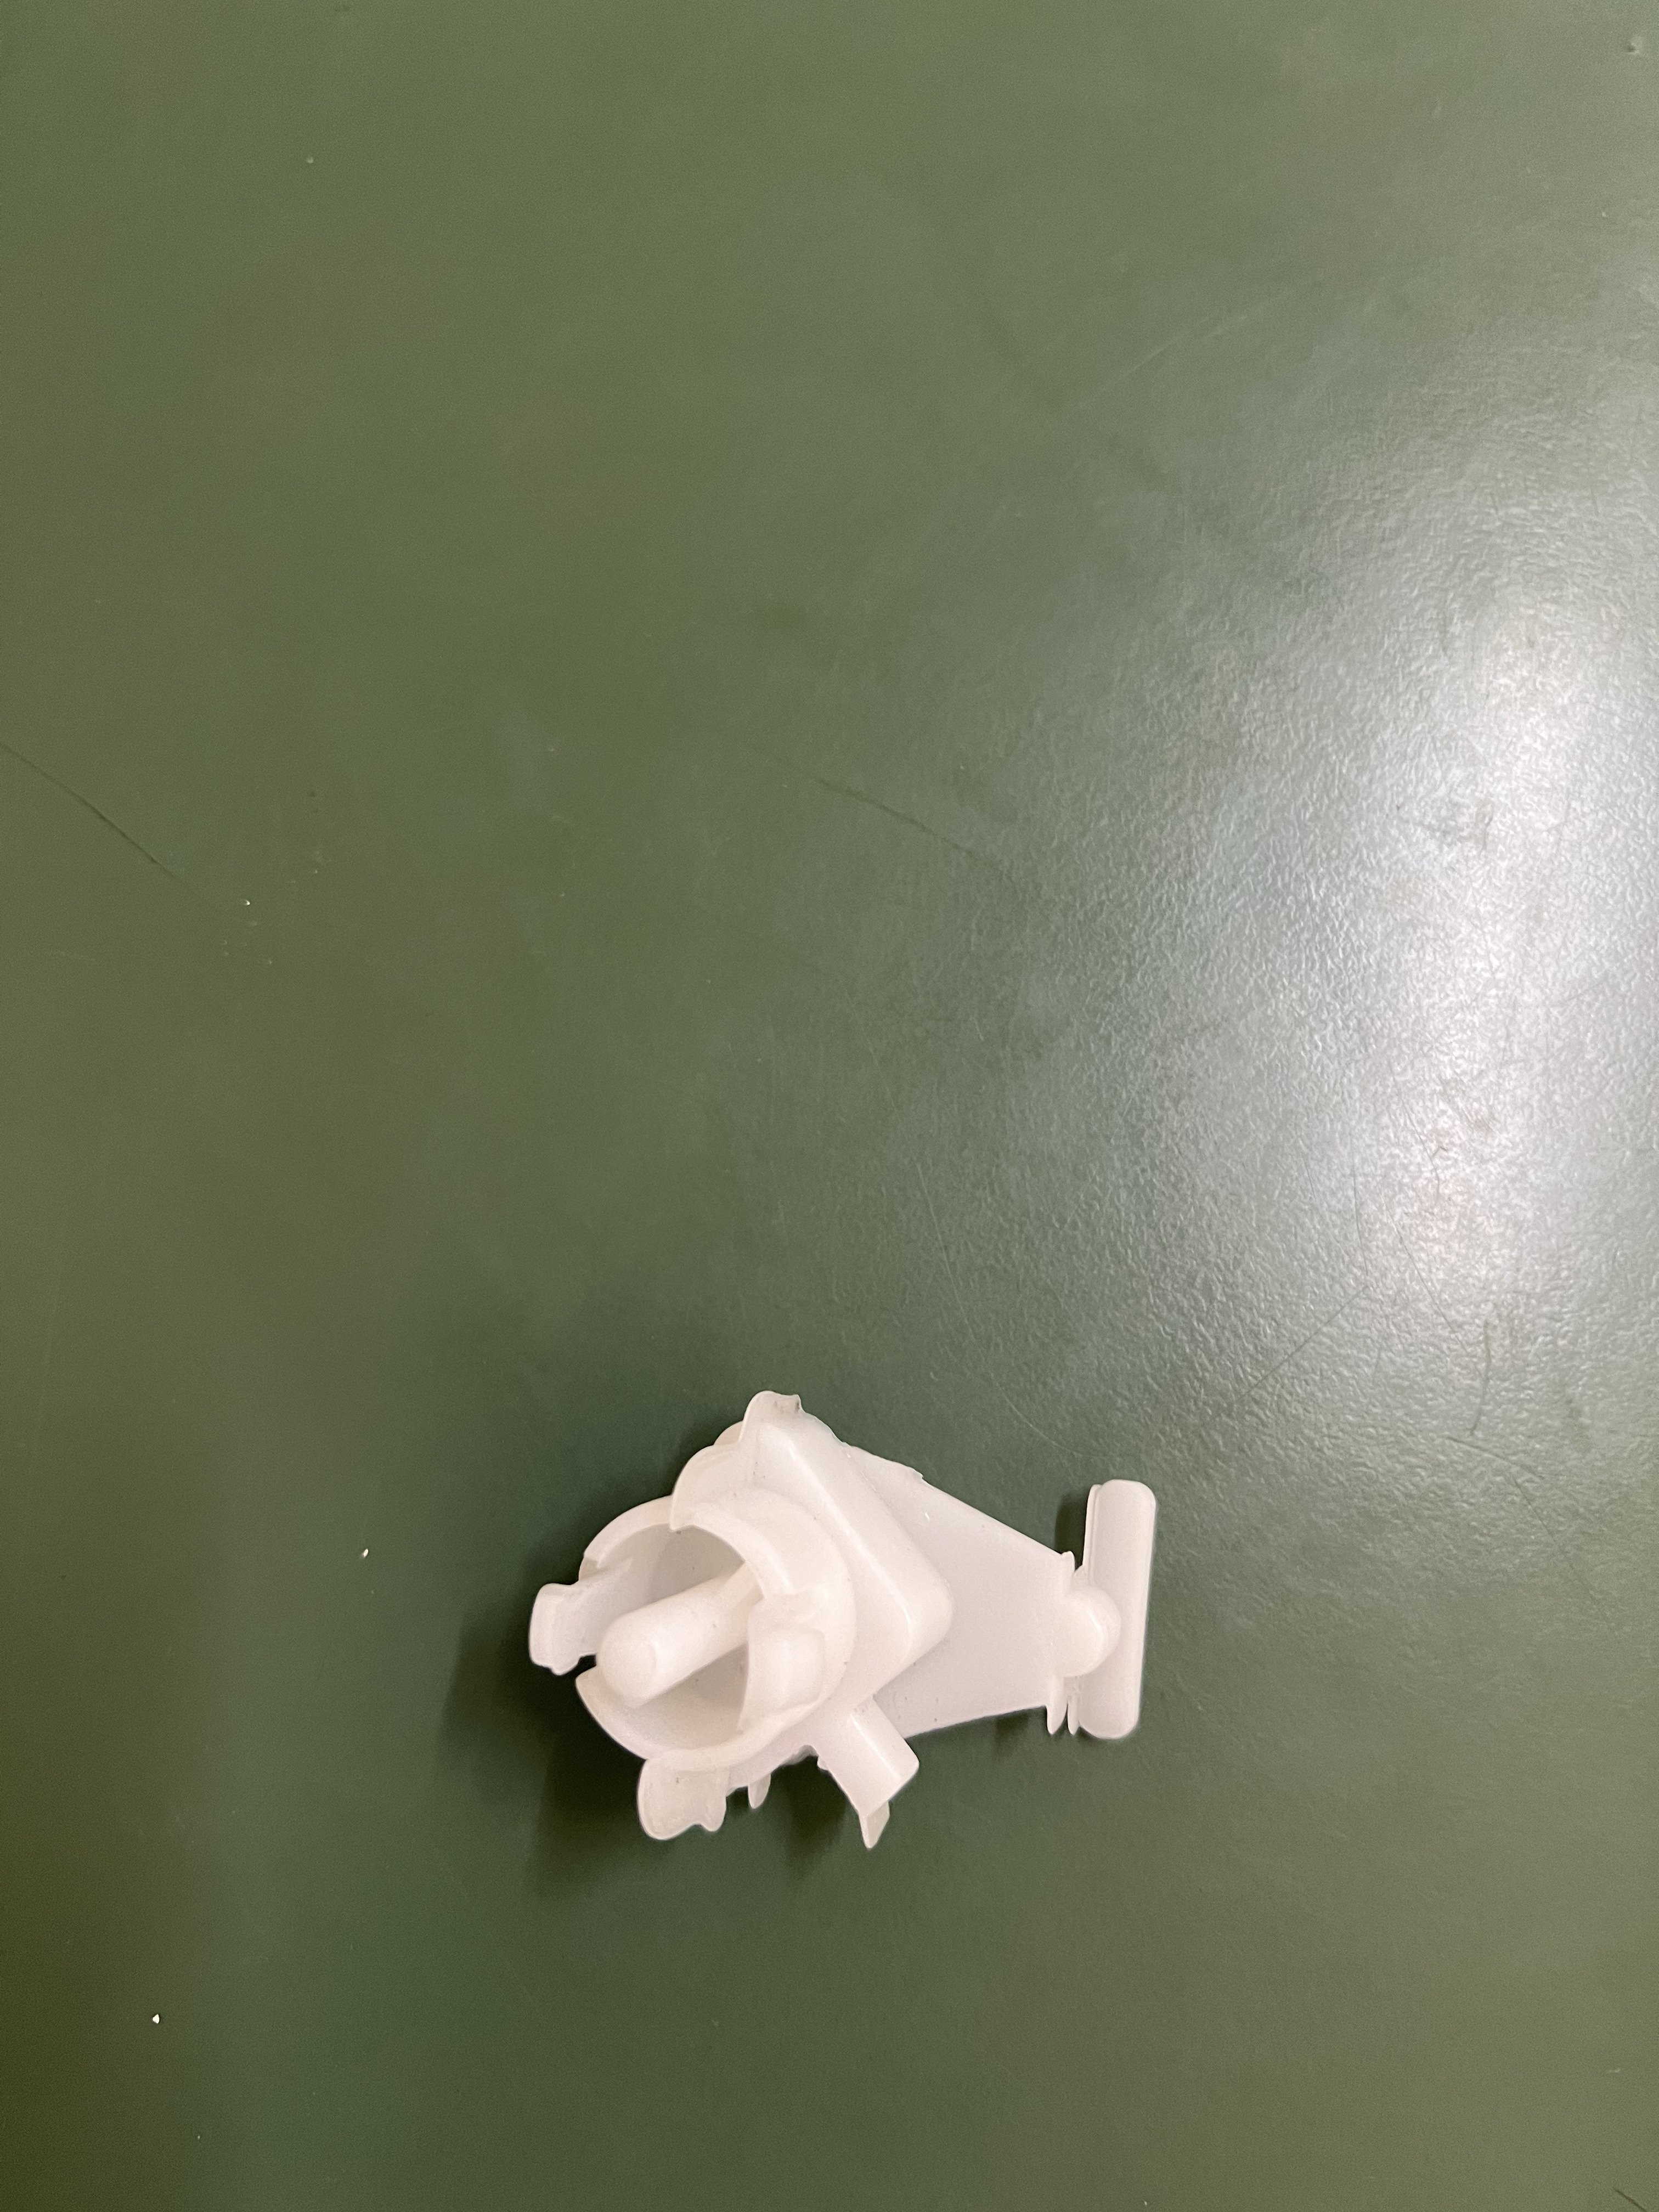drain_lever: (500, 1409, 1206, 1844)
